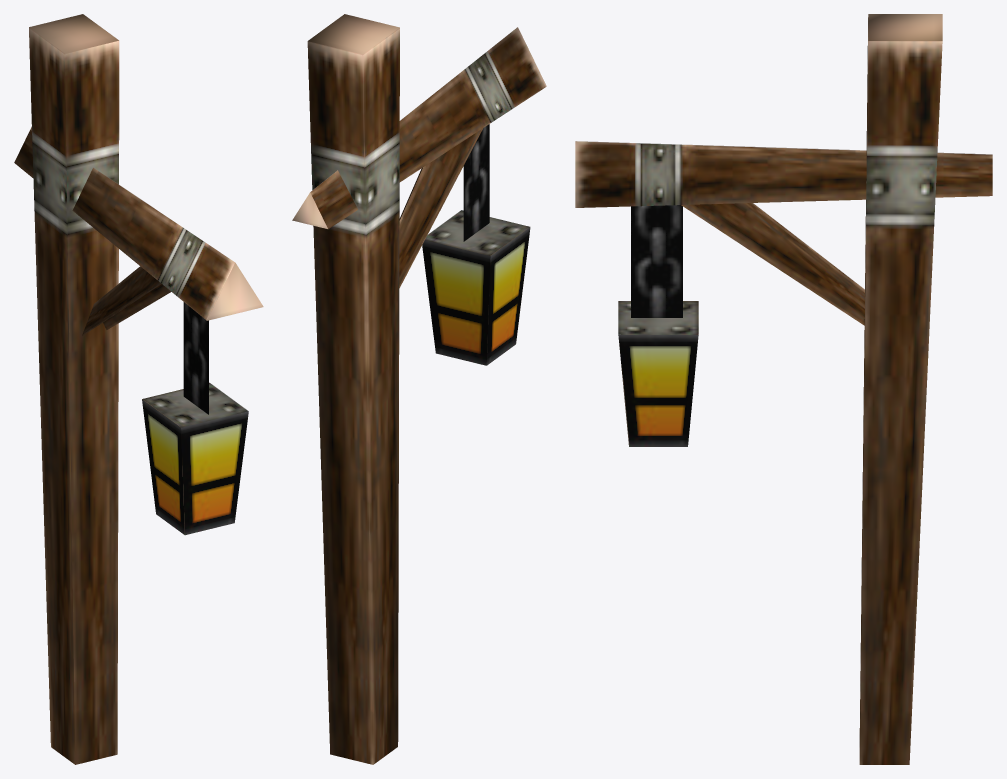
File: lightspot.obj
The picture shows the model from 3 angles, left to right: view 1: azimuth 30°, elevation 25°; view 2: azimuth 150°, elevation 25°; view 3: azimuth 270°, elevation 25°; orthographic projection. The views are drawn at different scales.
Visible parts, largest first — view 1: Village_Lightpost(m0); view 2: Village_Lightpost(m0); view 3: Village_Lightpost(m0).
Boxes of the visible parts, x1=… form: Village_Lightpost(m0): x1=14, y1=14, x2=263, y2=764; Village_Lightpost(m0): x1=292, y1=14, x2=546, y2=764; Village_Lightpost(m0): x1=575, y1=14, x2=992, y2=764.
Bounding box in the file's own units: 0.3599 × 3.6 × 1.87.
1 material, 1 textured.
